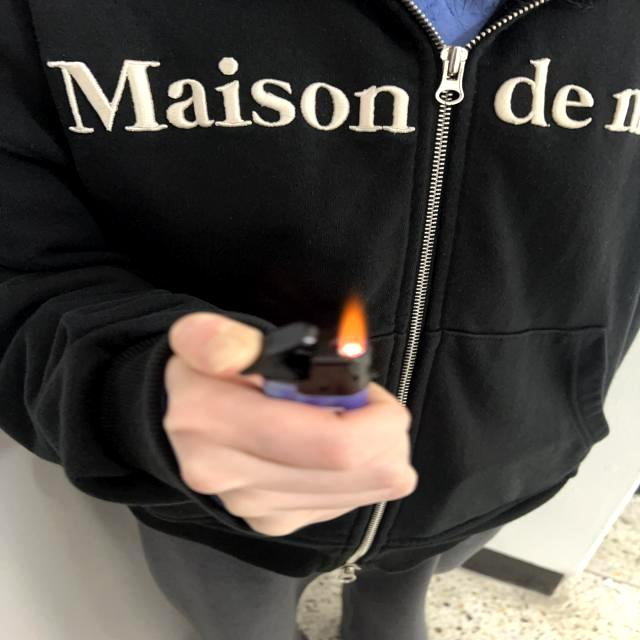fire: (337, 298, 367, 354)
